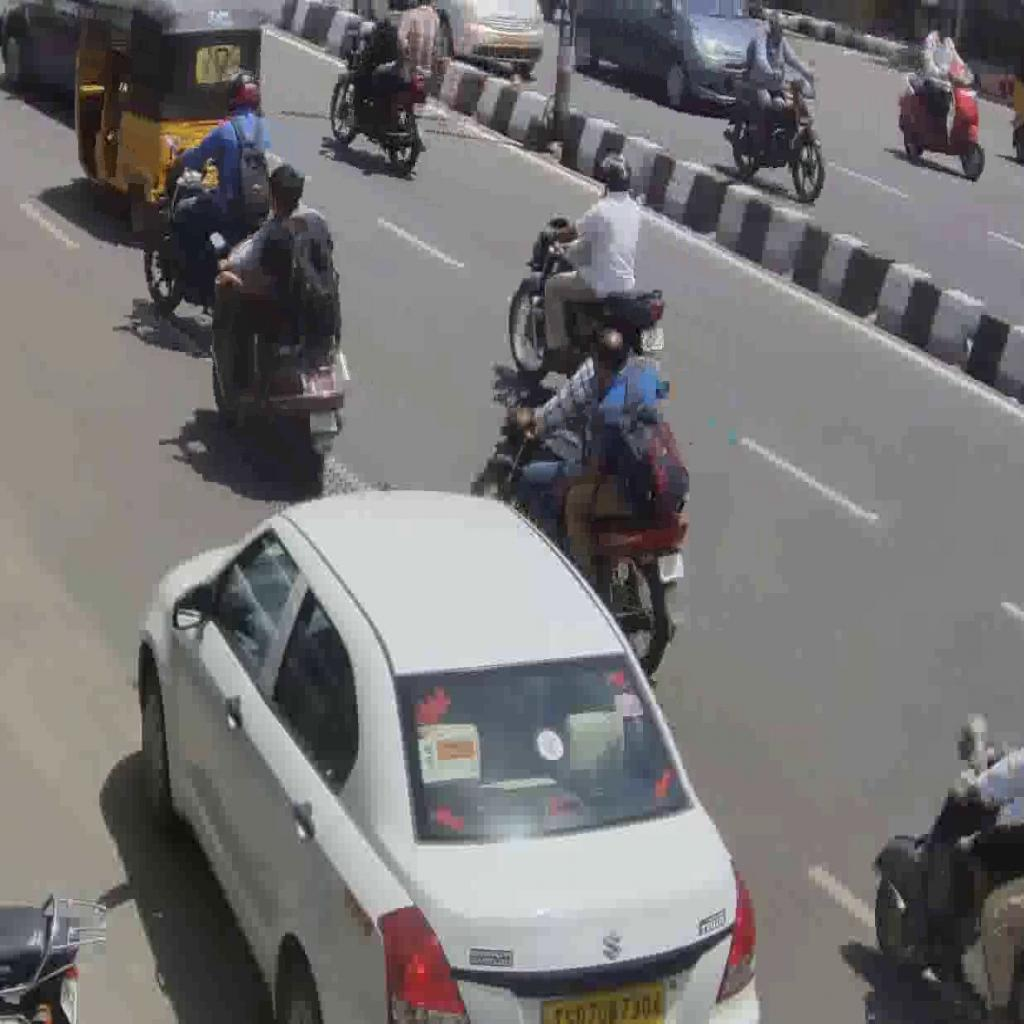helmet: (471, 385, 690, 678), (873, 710, 1024, 1020), (210, 232, 350, 483), (508, 214, 666, 388), (143, 145, 260, 313), (329, 22, 433, 175)
